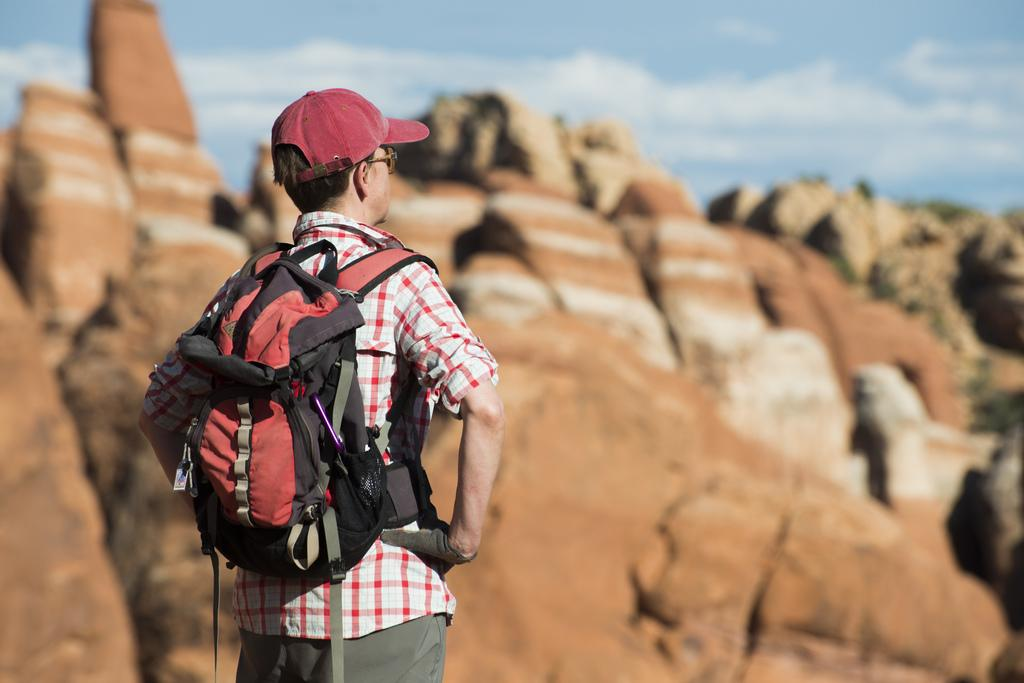Hat: (270, 82, 430, 188)
